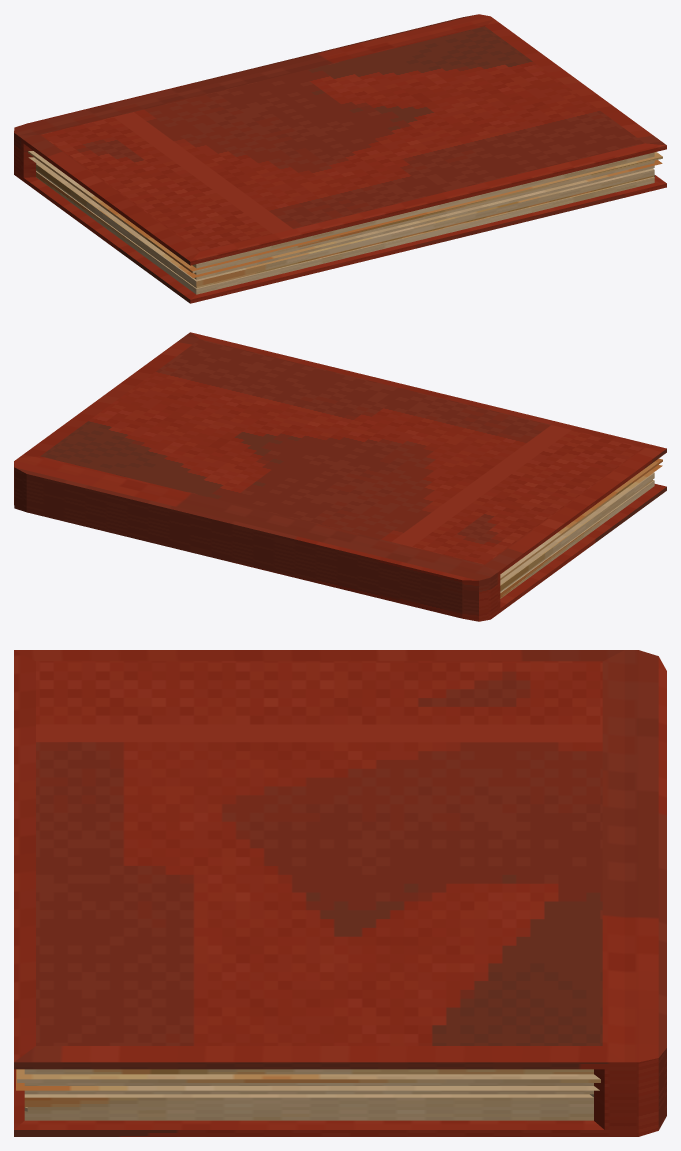
File: Libro_3_Rossofbx.fbx
3 views of the same model, one above another, from view 1: azimuth 30°, elevation 25°; view 2: azimuth 150°, elevation 25°; view 3: azimuth 270°, elevation 25° (orthographic). The views are drawn at different scales.
Parts seen in each view (by area): view 1: Cube.011; view 2: Cube.011; view 3: Cube.011.
Part boxes in pixels (x1=…): Cube.011: x1=14, y1=14, x2=666, y2=303; Cube.011: x1=14, y1=332, x2=666, y2=621; Cube.011: x1=14, y1=650, x2=666, y2=1136.
Size of the model in its own units: 0.2293 by 0.02 by 0.1535.
Materials: 2 (2 with a texture image).
